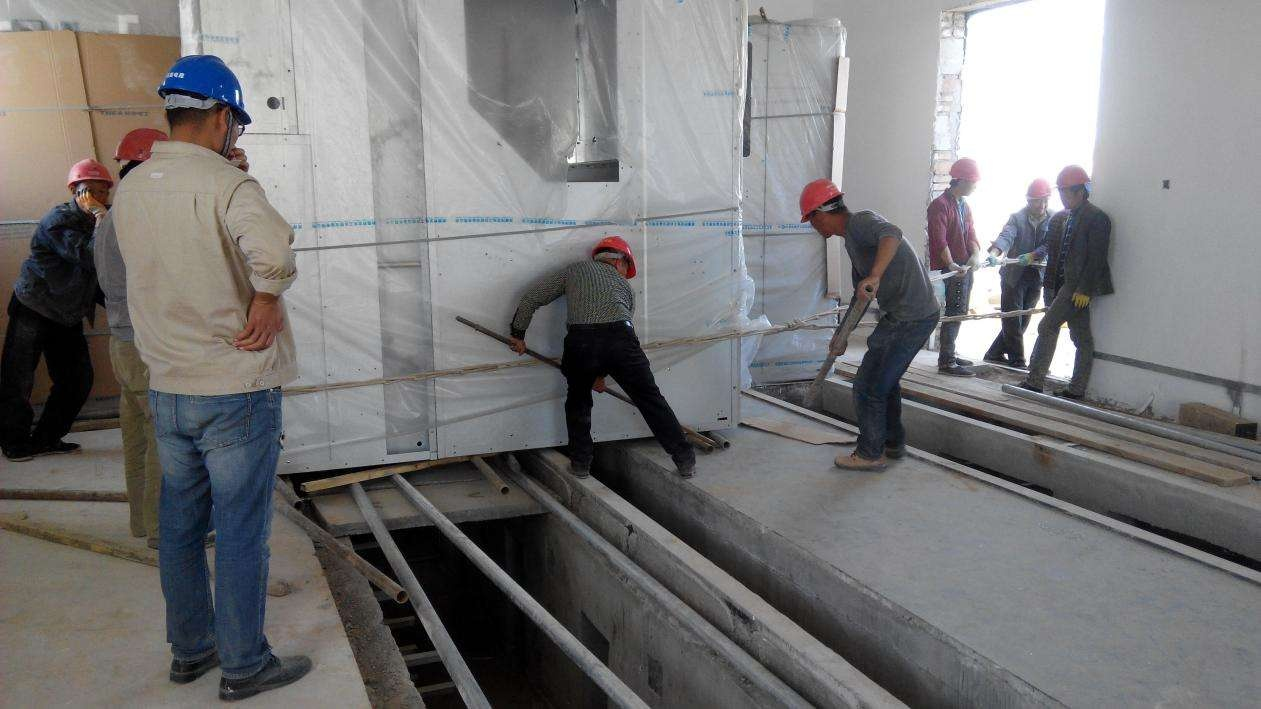blue: (157, 47, 253, 162)
red: (793, 175, 848, 242), (64, 156, 117, 219), (584, 227, 642, 284), (1051, 160, 1093, 210), (944, 153, 981, 199), (1021, 176, 1052, 215)
